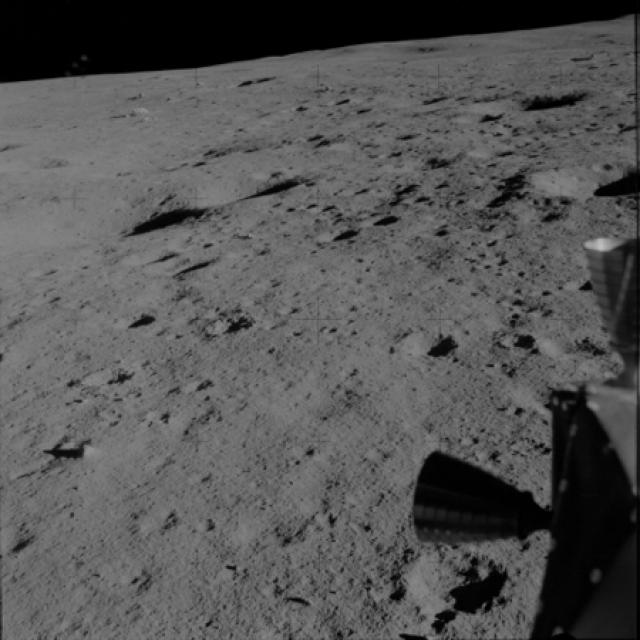crater: (0, 179, 212, 263), (402, 540, 518, 629), (240, 369, 364, 436), (188, 157, 314, 218), (519, 154, 640, 214), (465, 84, 602, 113), (380, 144, 468, 186), (0, 512, 57, 575), (62, 361, 160, 394), (101, 297, 160, 343), (403, 329, 459, 374), (197, 309, 258, 344), (310, 217, 369, 251), (463, 135, 522, 166), (172, 369, 223, 399), (496, 325, 542, 358), (366, 208, 404, 238), (335, 180, 374, 205), (23, 262, 61, 285), (388, 129, 422, 148)
rock: (48, 423, 104, 462)
